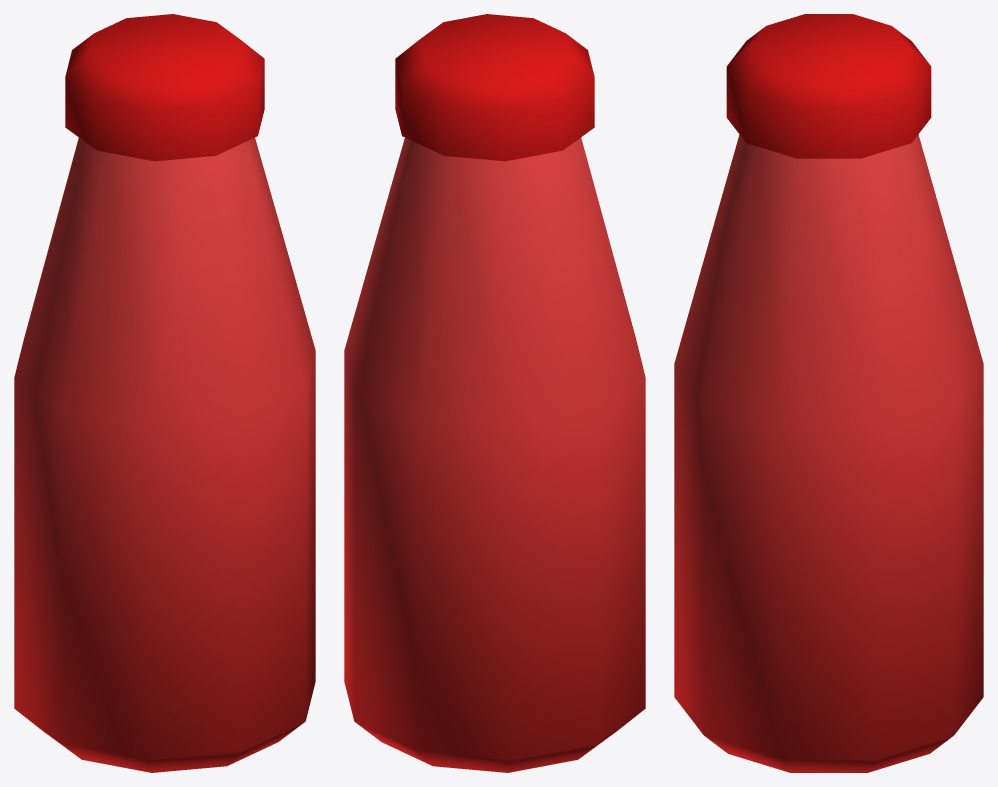
File: bottle_small_red.fbx
3 views of the same model, side by side, from view 1: azimuth 30°, elevation 25°; view 2: azimuth 150°, elevation 25°; view 3: azimuth 270°, elevation 25° (orthographic).
Parts seen in each view (by area): view 1: bottle_small_red; view 2: bottle_small_red; view 3: bottle_small_red.
Boxes of the visible parts, x1,y1,x2,y2 form: bottle_small_red: (14, 14, 315, 772); bottle_small_red: (344, 14, 645, 772); bottle_small_red: (674, 14, 983, 772).
Size of the model in its own units: 33.8 by 85.83 by 35.54.
